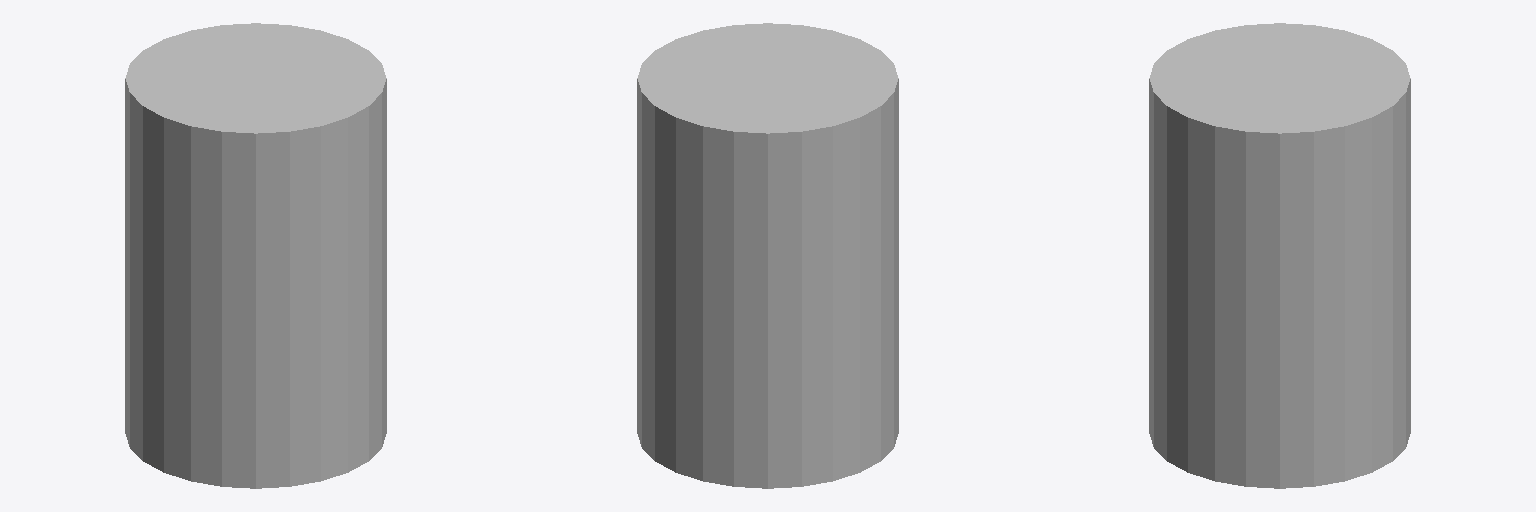
The model's file is original-21.obj.
3 views of the same model, side by side, from view 1: azimuth 30°, elevation 25°; view 2: azimuth 150°, elevation 25°; view 3: azimuth 270°, elevation 25° (orthographic).
Parts seen in each view (by area): view 1: mesh63/mesh63-geometry#mesh63-geometry; view 2: mesh63/mesh63-geometry#mesh63-geometry; view 3: mesh63/mesh63-geometry#mesh63-geometry.
Part boxes in pixels (left/top/right/bottom): mesh63/mesh63-geometry#mesh63-geometry: left=125, top=23, right=386, bottom=488; mesh63/mesh63-geometry#mesh63-geometry: left=637, top=23, right=898, bottom=488; mesh63/mesh63-geometry#mesh63-geometry: left=1149, top=23, right=1410, bottom=488.
Bounding box in the file's own units: 0.0087 × 0.013 × 0.0087.